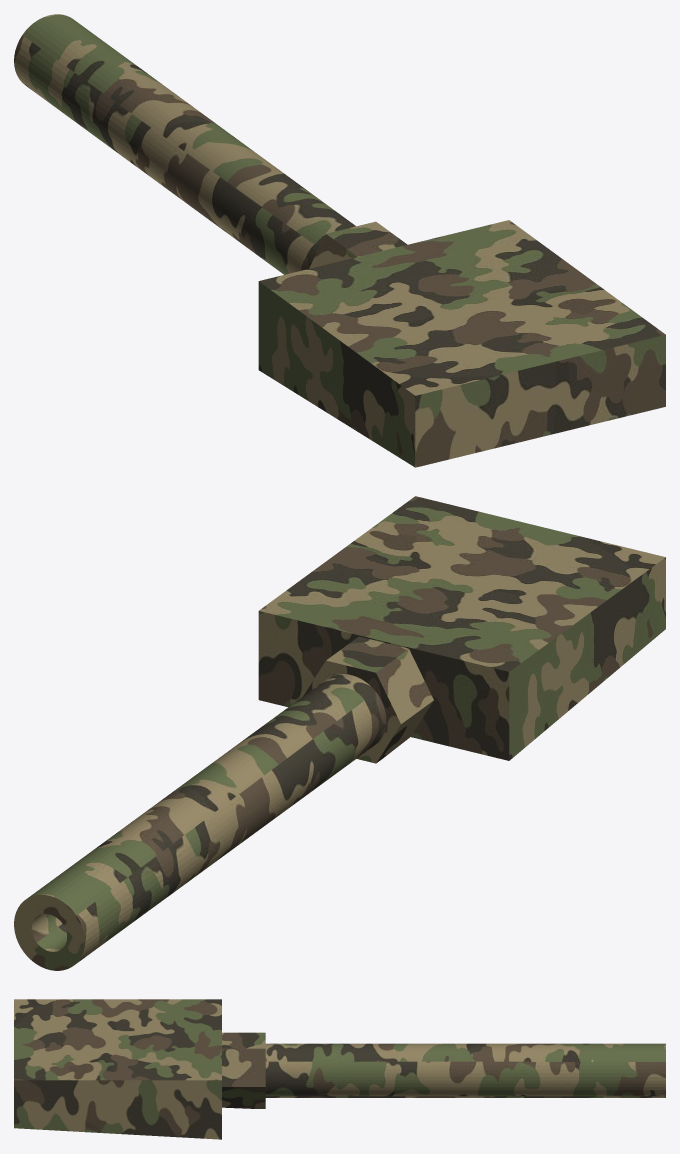
File: Low_Poly_turret.obj
3 views of the same model, one above another, from view 1: azimuth 30°, elevation 25°; view 2: azimuth 150°, elevation 25°; view 3: azimuth 270°, elevation 25° (orthographic). The views are drawn at different scales.
Parts seen in each view (by area): view 1: Turret; view 2: Turret; view 3: Turret.
Boxes of the visible parts, left/top/right/bottom form: Turret: left=14, top=14, right=665, bottom=467; Turret: left=14, top=496, right=665, bottom=970; Turret: left=14, top=999, right=665, bottom=1139.
Bounding box in the file's own units: 20 × 7.02 × 67.91.
